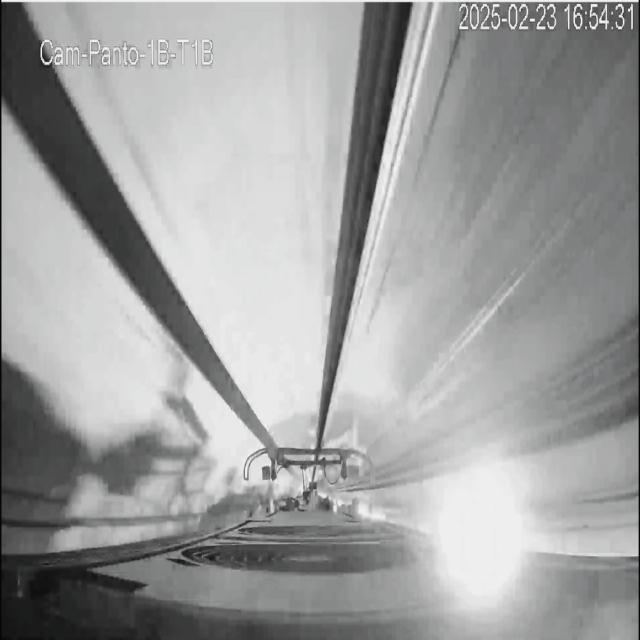Camera Stamp: (40, 32, 219, 69)
Date Stamp: (457, 3, 634, 33)
No - Spark: (430, 452, 534, 612), (244, 442, 368, 504)
